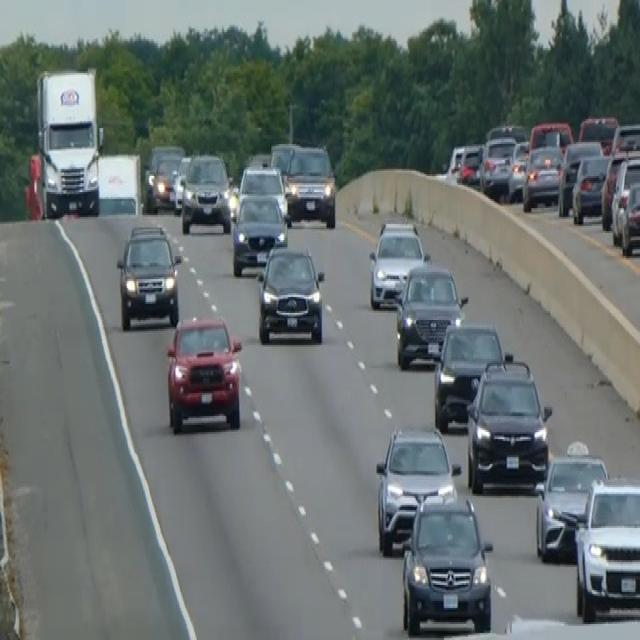car: (464, 354, 552, 494), (374, 421, 460, 555), (573, 477, 639, 622), (165, 313, 243, 434), (534, 439, 609, 562), (432, 318, 505, 432), (393, 261, 467, 368), (115, 220, 182, 330), (256, 243, 325, 345), (368, 217, 428, 309), (230, 190, 288, 276), (282, 140, 336, 228), (180, 149, 232, 235), (236, 160, 289, 226), (557, 139, 602, 215), (521, 142, 564, 212), (570, 151, 610, 224), (611, 153, 639, 238), (479, 134, 516, 198), (600, 150, 626, 230), (150, 153, 181, 210), (577, 112, 618, 153), (618, 178, 639, 256), (528, 119, 573, 155), (506, 139, 530, 201), (171, 153, 193, 213), (457, 142, 483, 187), (610, 119, 639, 157), (446, 142, 465, 178)
jeep: (400, 491, 494, 636)
lorry: (33, 64, 104, 219)
